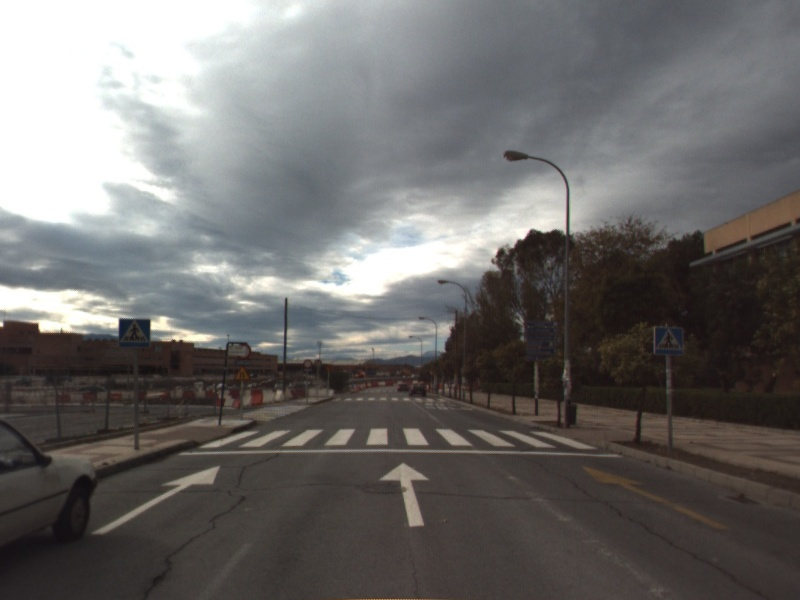STRAIGHT: (580, 464, 731, 532), (88, 463, 223, 537), (377, 460, 432, 528)
